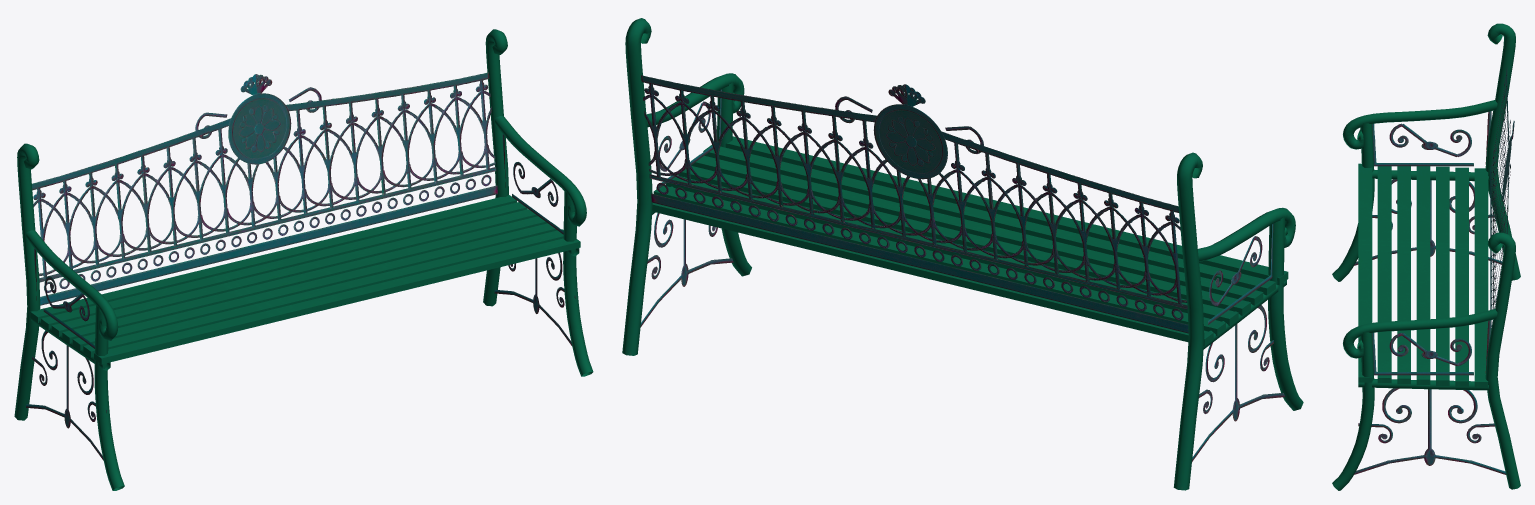
File: banca.obj
3 renders of one model, left to right at view 1: azimuth 30°, elevation 25°; view 2: azimuth 150°, elevation 25°; view 3: azimuth 270°, elevation 25°, orthographic. The views are drawn at different scales.
Visible parts, largest first — view 1: banca; view 2: banca; view 3: banca.
Boxes of the visible parts, <box> form: banca: <box>14,29,593,490</box>; banca: <box>622,18,1303,490</box>; banca: <box>1332,23,1520,490</box>.
Size of the model in its own units: 1.84 by 1.07 by 0.6877.
